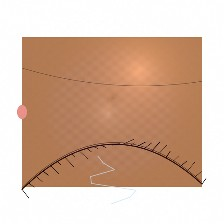foreign_body_visible: (120, 77, 139, 92)
